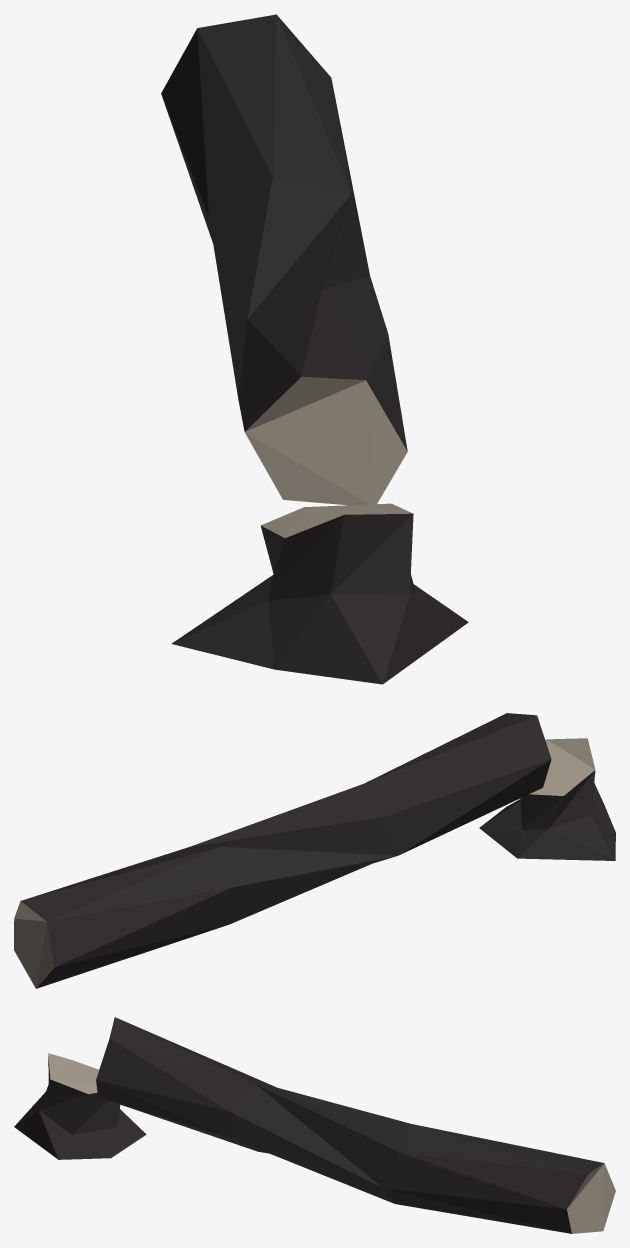
Rendered from CELMS_002.FBX.
3 views of the same model, one above another, from view 1: azimuth 30°, elevation 25°; view 2: azimuth 150°, elevation 25°; view 3: azimuth 270°, elevation 25° (orthographic). The views are drawn at different scales.
Parts seen in each view (by area): view 1: CELMS_002; view 2: CELMS_002; view 3: CELMS_002.
Boxes of the visible parts, left/top/right/bottom form: CELMS_002: left=161, top=14, right=468, bottom=684; CELMS_002: left=14, top=713, right=615, bottom=988; CELMS_002: left=14, top=1017, right=615, bottom=1233.
Size of the model in its own units: 4735 by 1711 by 8002.
Materials: 1 (1 with a texture image).
